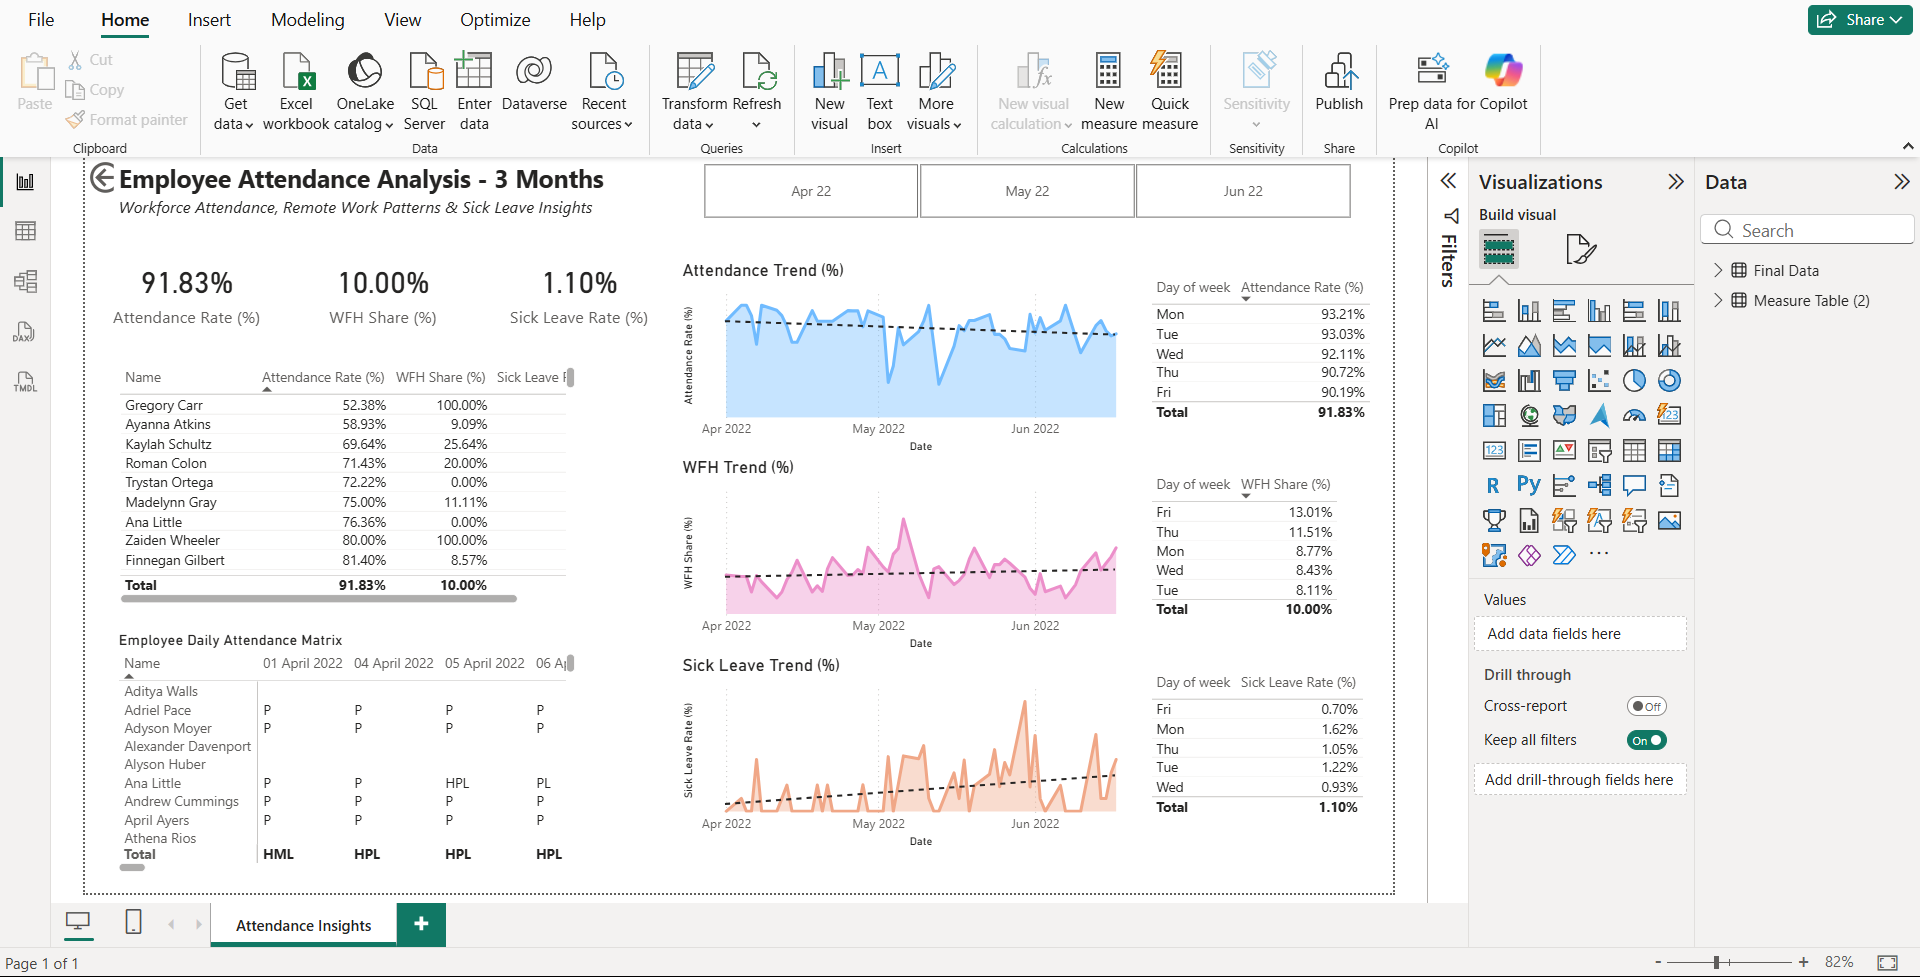

Layout of this report page (visuals, bound fields, positions):
{"tool":"powerbi","page":{"name":"Attendance Insights","canvas":[1280,720],"ordinal":0},"visuals":[{"type":"card","fields":{"Values":["Measure Table (2).N.o of days people present %"]},"box":[3.7,86.8,192,90.5],"z":0},{"type":"slicer","fields":{"Values":["Final Data.Month"]},"box":[579.6,0,682.3,66],"z":1000},{"type":"actionButton","box":[0,0,100,40],"z":2000},{"type":"tableEx","fields":{"Values":["Final Data.Name","Measure Table (2).Employee Attendance %","Measure Table (2).WFH Share %","Measure Table (2).SL %"]},"box":[28.1,200.5,456.1,240.9],"z":3000},{"type":"card","fields":{"Values":["Measure Table (2).WFH Share %"]},"box":[195.7,86.8,192,90.5],"z":4000},{"type":"card","fields":{"Values":["Measure Table (2).SL %"]},"box":[387.6,86.8,192,90.5],"z":5000},{"type":"textbox","box":[28.1,0,551.5,67.3],"z":6000},{"type":"pivotTable","title":"Employee Daily Attendance Matrix","fields":{"Rows":["Final Data.Name"],"Columns":["Final Data.Date"],"Values":["Min(Final Data.Value)"]},"box":[28.1,463.5,456.1,240.9],"z":7000},{"type":"areaChart","title":"Attendance Trend (%)","fields":{"Category":["Final Data.Date"],"Y":["Measure Table (2).Employee Attendance %"]},"box":[579.1,100.2,458.3,193.5],"z":8000},{"type":"areaChart","title":"WFH Trend (%)","fields":{"Category":["Final Data.Date"],"Y":["Measure Table (2).WFH Share %"]},"box":[579.1,293.7,458.3,193.5],"z":9000},{"type":"areaChart","title":"Sick Leave Trend (%)","fields":{"Category":["Final Data.Date"],"Y":["Measure Table (2).SL %"]},"box":[579.1,487.1,458.3,193.5],"z":10000},{"type":"tableEx","fields":{"Values":["Final Data.Day of week","Measure Table (2).Employee Attendance %"]},"box":[1036.7,112.5,243.3,168.8],"z":11000},{"type":"tableEx","fields":{"Values":["Final Data.Day of week","Measure Table (2).WFH Share %"]},"box":[1036.7,305.7,243.3,168.8],"z":12000},{"type":"tableEx","fields":{"Values":["Final Data.Day of week","Measure Table (2).SL %"]},"box":[1036.7,498.9,243.3,168.8],"z":13000}]}

Visuals, with their boxes on the page's 1280x720 design canvas (x1, y1, x2, y2). These are canvas units, not pixel positions in the 1920x977 screenshot, which may show the page scaled, cropped or inside an application window:
card - Measure Table (2).N.o of days people present %: {"x1": 4, "y1": 87, "x2": 196, "y2": 177}
slicer - Final Data.Month: {"x1": 580, "y1": 0, "x2": 1262, "y2": 66}
actionButton: {"x1": 0, "y1": 0, "x2": 100, "y2": 40}
tableEx - Final Data.Name x Measure Table (2).Employee Attendance %: {"x1": 28, "y1": 200, "x2": 484, "y2": 441}
card - Measure Table (2).WFH Share %: {"x1": 196, "y1": 87, "x2": 388, "y2": 177}
card - Measure Table (2).SL %: {"x1": 388, "y1": 87, "x2": 580, "y2": 177}
textbox: {"x1": 28, "y1": 0, "x2": 580, "y2": 67}
"Employee Daily Attendance Matrix" pivotTable: {"x1": 28, "y1": 464, "x2": 484, "y2": 704}
"Attendance Trend (%)" areaChart: {"x1": 579, "y1": 100, "x2": 1037, "y2": 294}
"WFH Trend (%)" areaChart: {"x1": 579, "y1": 294, "x2": 1037, "y2": 487}
"Sick Leave Trend (%)" areaChart: {"x1": 579, "y1": 487, "x2": 1037, "y2": 681}
tableEx - Final Data.Day of week x Measure Table (2).Employee Attendance %: {"x1": 1037, "y1": 112, "x2": 1280, "y2": 281}
tableEx - Final Data.Day of week x Measure Table (2).WFH Share %: {"x1": 1037, "y1": 306, "x2": 1280, "y2": 474}
tableEx - Final Data.Day of week x Measure Table (2).SL %: {"x1": 1037, "y1": 499, "x2": 1280, "y2": 668}
